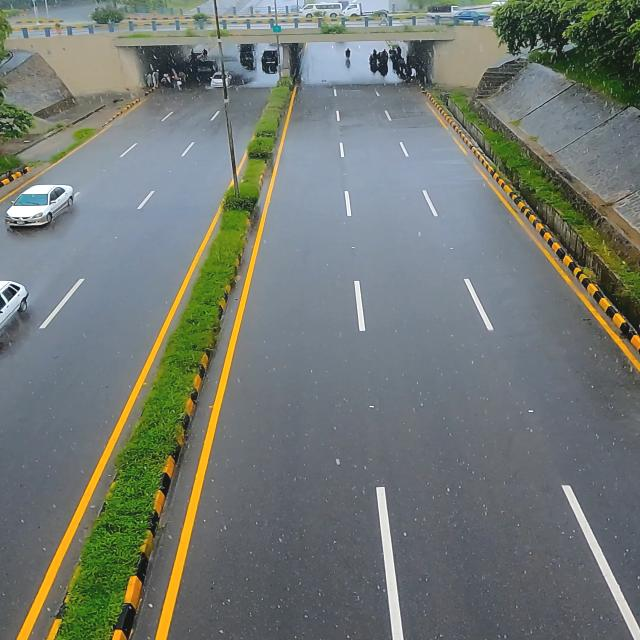Vehicle: (2, 180, 77, 237)
